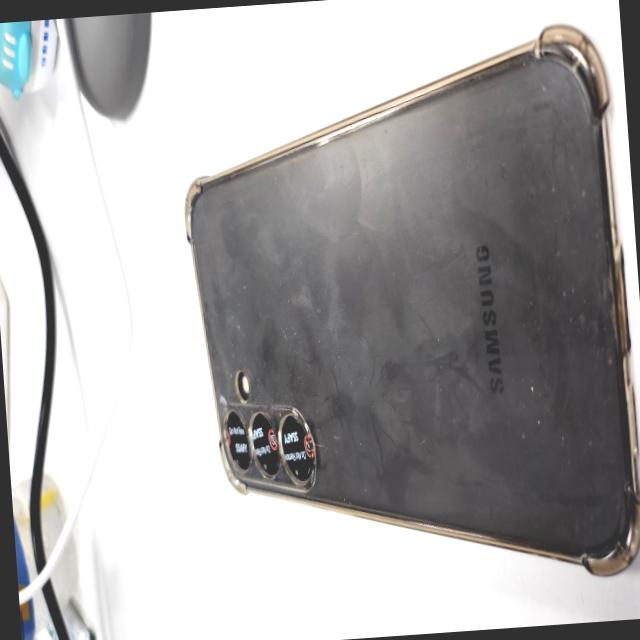phone: (175, 30, 640, 591)
sticker: (277, 412, 317, 471), (221, 416, 252, 462), (249, 416, 278, 464)
